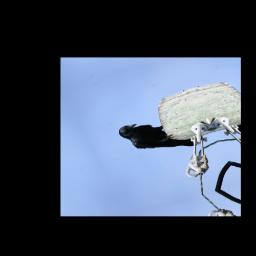Crow: (116, 110, 199, 164)
